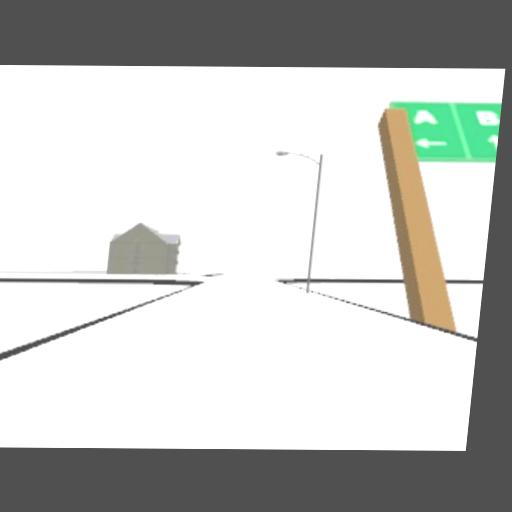A: (412, 108, 440, 125)
B: (473, 110, 501, 125)
Left: (413, 136, 448, 148)
Straight: (487, 133, 499, 152)
